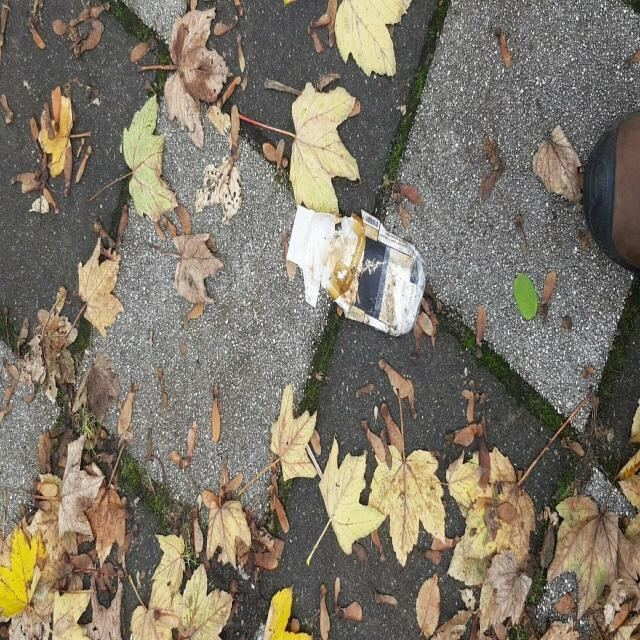Paper: (286, 204, 430, 338)
